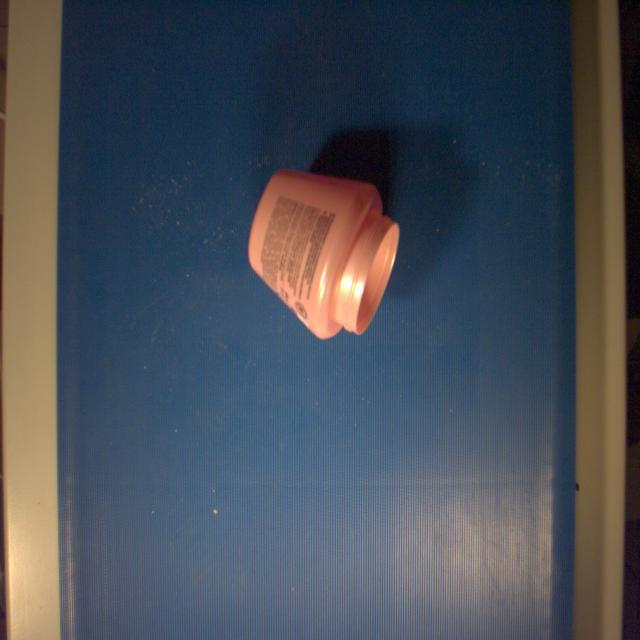HDPE Plastic: (241, 166, 404, 346)
